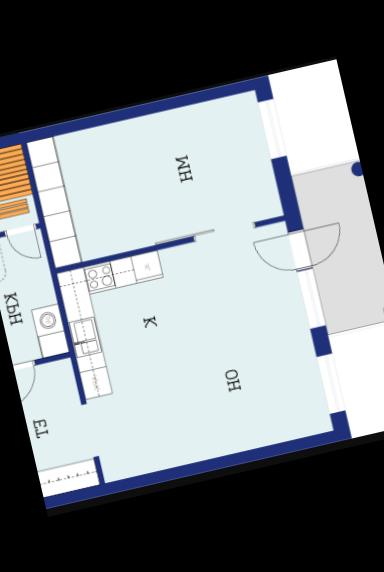door: (249, 226, 314, 280), (286, 218, 350, 270), (2, 222, 42, 266), (12, 357, 42, 405)
window: (292, 263, 332, 335), (312, 347, 349, 422), (253, 93, 291, 165)
